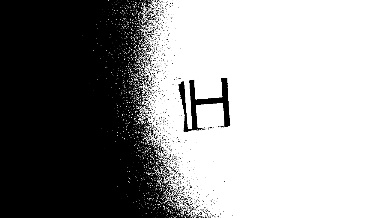H: (183, 76, 235, 129)
